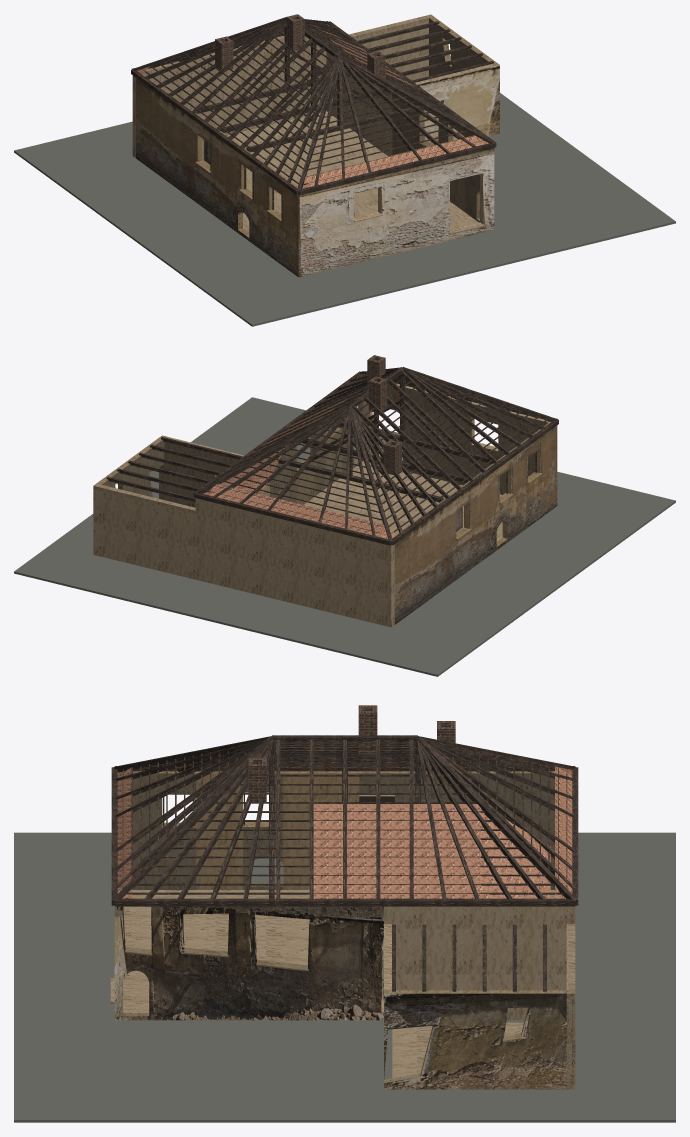
Rendered from cp257_SOL61.glb.
3 views of the same model, one above another, from view 1: azimuth 30°, elevation 25°; view 2: azimuth 150°, elevation 25°; view 3: azimuth 270°, elevation 25° (orthographic). The views are drawn at different scales.
Parts seen in each view (by area): view 1: Ground_Context_Provisional, Documented_Exposed_Roof_Timber, Wall_B_corner_return, Wall_A_street_long, Unobserved_Back_Return, Inner_Ruin_Floor, Wall_E_annex_inner, Wall_C_rear_main, Remaining_Tile_Strips, Annex_Unobserved_End, Three_Observed_Chimneys, Wall_D_annex_rear; view 2: Ground_Context_Provisional, Documented_Exposed_Roof_Timber, Unobserved_Back_Return, Wall_A_street_long, Annex_Unobserved_End, Wall_B_corner_return, Inner_Ruin_Floor, Remaining_Tile_Strips, Wall_C_rear_main, Wall_E_annex_inner, Three_Observed_Chimneys, Wall_D_annex_rear; view 3: Ground_Context_Provisional, Documented_Exposed_Roof_Timber, Wall_C_rear_main, Remaining_Tile_Strips, Wall_D_annex_rear, Wall_A_street_long, Unobserved_Back_Return, Inner_Ruin_Floor, Three_Observed_Chimneys, Annex_Exposed_Floor, Annex_Unobserved_End.
Part boxes in pixels (bbox=[...]): Ground_Context_Provisional: bbox=[14, 56, 675, 326]; Documented_Exposed_Roof_Timber: bbox=[131, 17, 496, 195]; Wall_B_corner_return: bbox=[298, 148, 494, 277]; Wall_A_street_long: bbox=[132, 74, 298, 277]; Unobserved_Back_Return: bbox=[132, 36, 392, 157]; Inner_Ruin_Floor: bbox=[202, 111, 478, 232]; Wall_E_annex_inner: bbox=[414, 62, 499, 144]; Wall_C_rear_main: bbox=[392, 94, 479, 222]; Remaining_Tile_Strips: bbox=[137, 24, 488, 188]; Annex_Unobserved_End: bbox=[349, 14, 432, 80]; Three_Observed_Chimneys: bbox=[215, 14, 385, 85]; Wall_D_annex_rear: bbox=[428, 15, 499, 76]; Ground_Context_Provisional: bbox=[14, 397, 675, 676]; Documented_Exposed_Roof_Timber: bbox=[106, 367, 558, 545]; Unobserved_Back_Return: bbox=[195, 482, 394, 627]; Wall_A_street_long: bbox=[391, 423, 557, 626]; Annex_Unobserved_End: bbox=[93, 483, 195, 579]; Wall_B_corner_return: bbox=[358, 383, 547, 494]; Inner_Ruin_Floor: bbox=[304, 461, 502, 541]; Remaining_Tile_Strips: bbox=[203, 374, 550, 538]; Wall_C_rear_main: bbox=[269, 402, 363, 504]; Wall_E_annex_inner: bbox=[159, 436, 244, 507]; Three_Observed_Chimneys: bbox=[367, 355, 401, 474]; Wall_D_annex_rear: bbox=[96, 435, 166, 497]; Ground_Context_Provisional: bbox=[14, 832, 675, 1122]; Documented_Exposed_Roof_Timber: bbox=[111, 735, 578, 991]; Wall_C_rear_main: bbox=[114, 906, 383, 1020]; Remaining_Tile_Strips: bbox=[117, 766, 572, 898]; Wall_D_annex_rear: bbox=[384, 990, 575, 1089]; Wall_A_street_long: bbox=[132, 771, 554, 889]; Unobserved_Back_Return: bbox=[384, 906, 575, 1020]; Inner_Ruin_Floor: bbox=[123, 890, 554, 1012]; Three_Observed_Chimneys: bbox=[248, 705, 455, 801]; Annex_Exposed_Floor: bbox=[392, 1022, 523, 1078]; Annex_Unobserved_End: bbox=[566, 924, 575, 1089].
Size of the model in its own units: 27 by 10.59 by 26.29.
17 materials, 15 textured.
